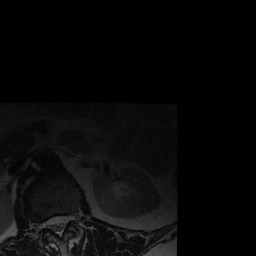CCS_normal: (54, 209, 62, 241)
LFS_normal: (69, 208, 75, 227)
LLS_normal: (63, 210, 69, 232)
RFS_stenosis: (39, 216, 46, 233)
RLS_normal: (46, 212, 55, 234)
